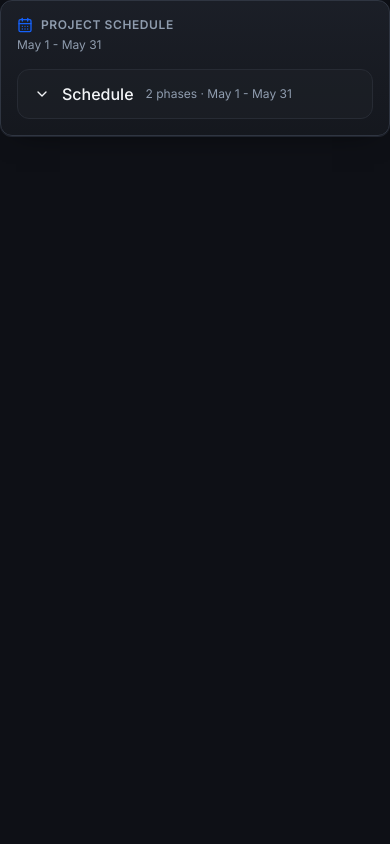
Test: ProjectScheduleTimeline › opens a mobile phase editor and persists the selected phase schedule
The width and height of the screenshot is (390, 844).
Later steps or results of the test are not shown.
Click the button "Schedule 2 phases · May 1 - May 31": x=195, y=94 [17,69,373,119]
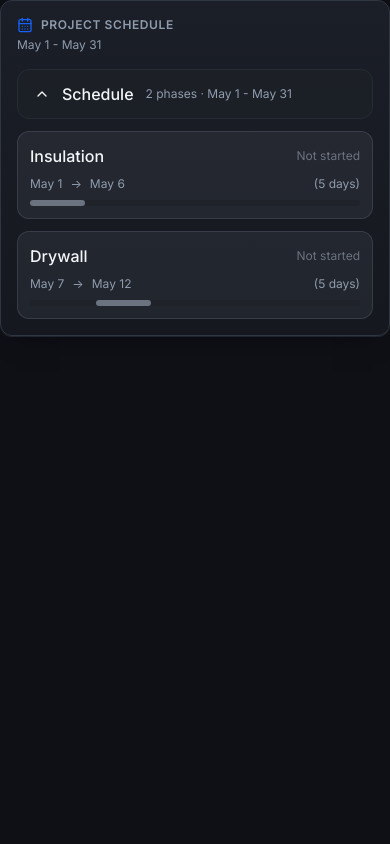
Expected: the button "Insulation Not started May 1 → May 6 (5 days)" is shown
Click the button "Insulation Not started May 1 → May 6 (5 days)": x=67, y=156 [17,131,373,219]
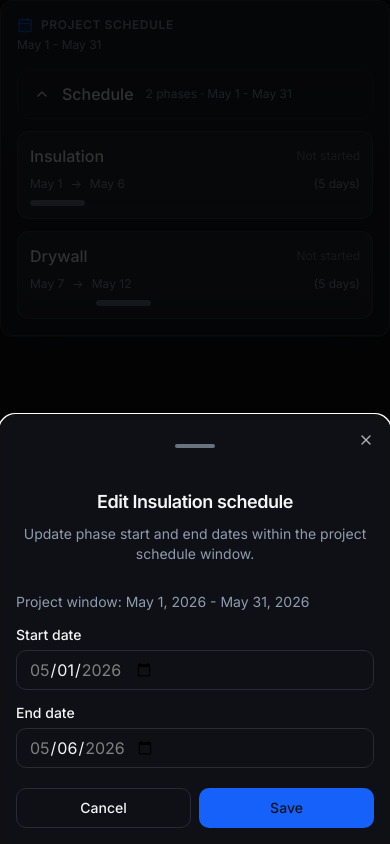
Expected: the date field labelled "Start date" holds "2026-05-01", [16,650,374,690]
Expected: the date field labelled "End date" holds "2026-05-06", [16,728,374,768]
